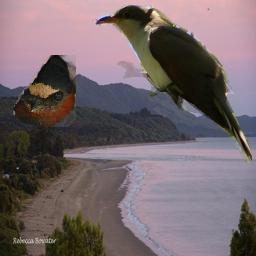Cuckoo: (92, 5, 252, 164)
Swallow: (13, 55, 76, 127)
